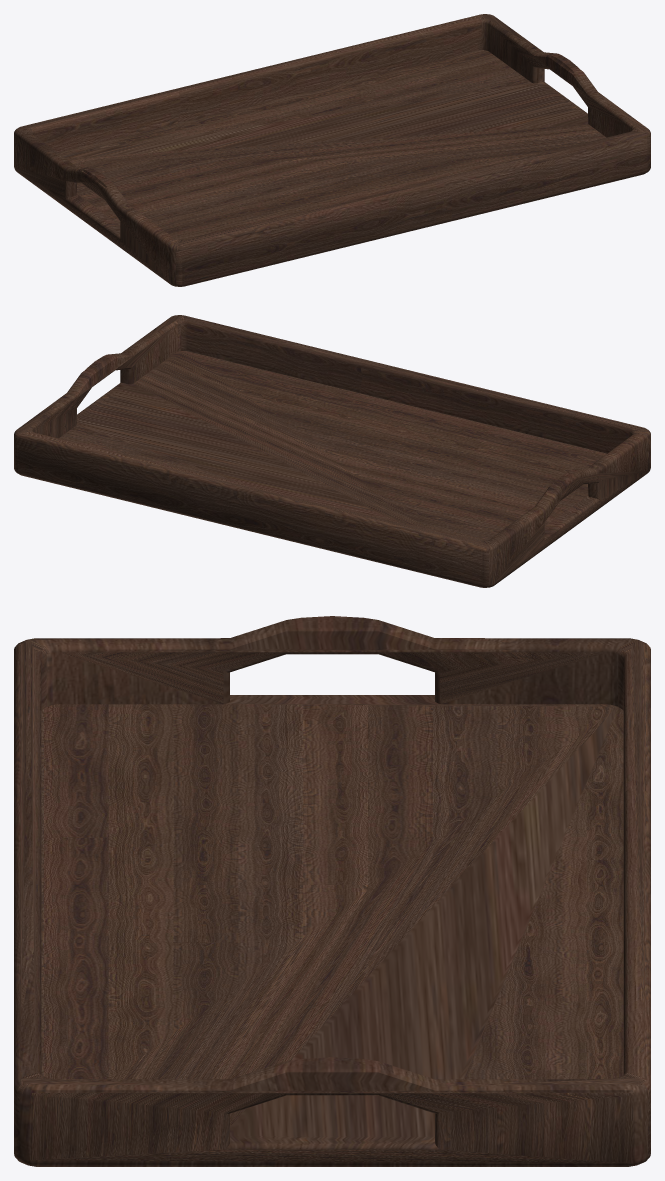
3 views of the same model, one above another, from view 1: azimuth 30°, elevation 25°; view 2: azimuth 150°, elevation 25°; view 3: azimuth 270°, elevation 25° (orthographic). The views are drawn at different scales.
Parts seen in each view (by area): view 1: Tray; view 2: Tray; view 3: Tray.
Part boxes in pixels (box(x1,y1,x2,y2)): Tray: box(14, 14, 650, 286); Tray: box(14, 315, 650, 587); Tray: box(14, 616, 650, 1166).
Bounding box in the file's own units: 0.3433 × 0.0369 × 0.2042.
1 material, 1 textured.
